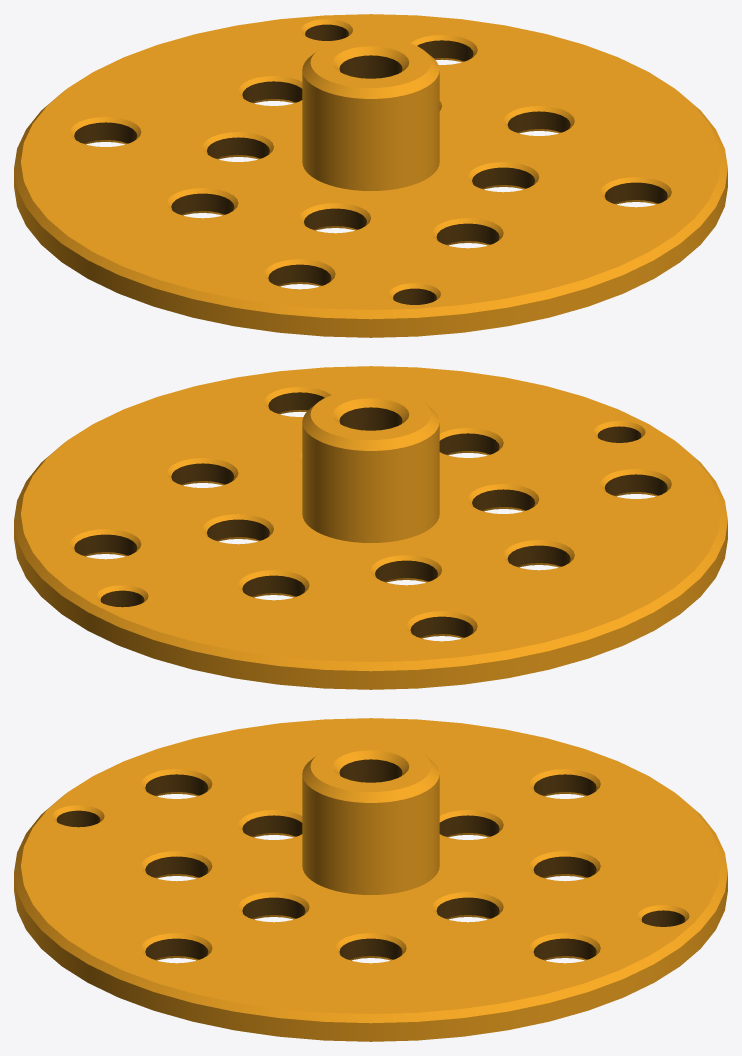
The model's file is maza-mediana.glb.
3 renders of one model, top to bottom at view 1: azimuth 30°, elevation 25°; view 2: azimuth 150°, elevation 25°; view 3: azimuth 270°, elevation 25°, orthographic.
Parts seen in each view (by area): view 1: geometry_0, geometry_1; view 2: geometry_0, geometry_1; view 3: geometry_0, geometry_1.
Boxes of the visible parts, x1,y1,x2,y2 form: geometry_0: [14, 14, 727, 337]; geometry_1: [74, 24, 667, 304]; geometry_0: [14, 366, 727, 689]; geometry_1: [74, 392, 667, 637]; geometry_0: [14, 718, 727, 1041]; geometry_1: [56, 759, 685, 959].
Size of the model in its own units: 0.052 by 0.01 by 0.052.
